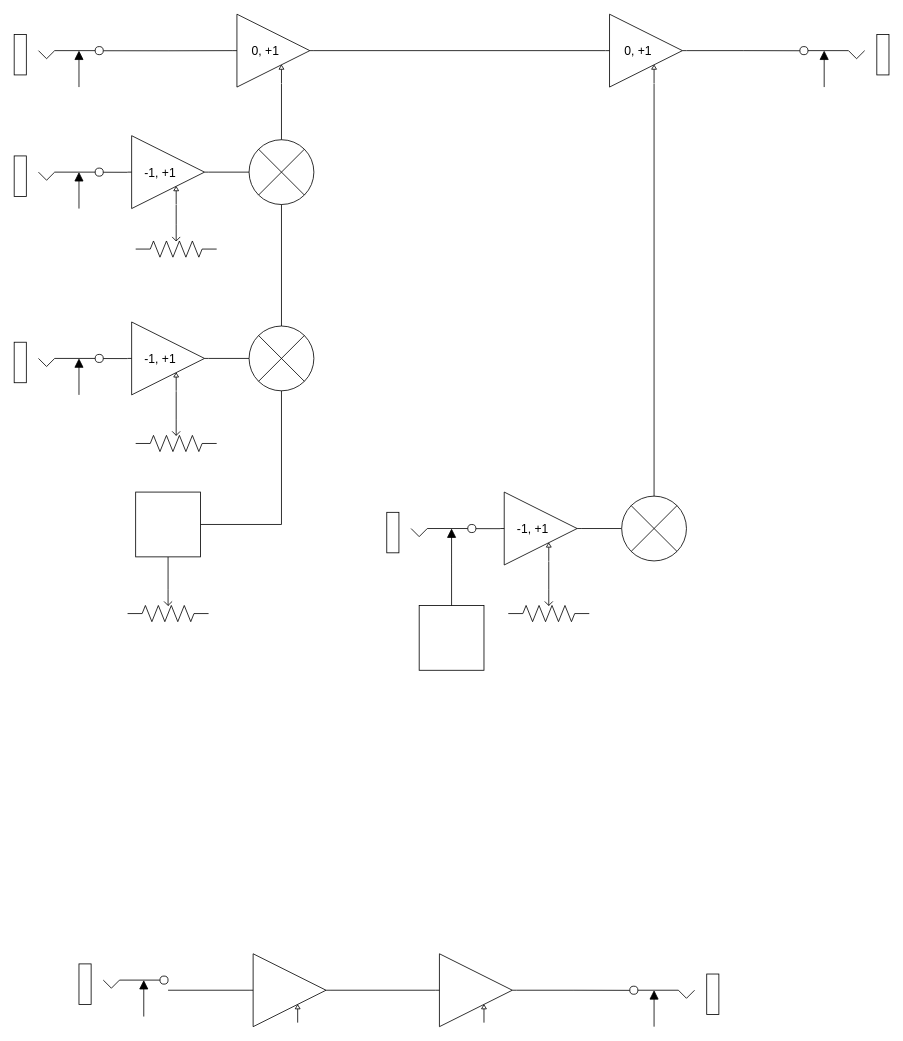
The diagram is 903 pixels wide and 1041 high, and some of its shapes have lost their labels. The centre of each missing label's shape, as x and y in pixels:
+5V: (x=451, y=637)
0V, +10V: (x=167, y=524)
